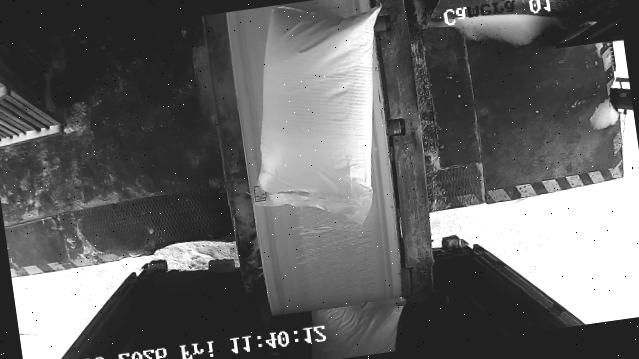bag: (226, 0, 411, 239), (307, 297, 411, 359)
